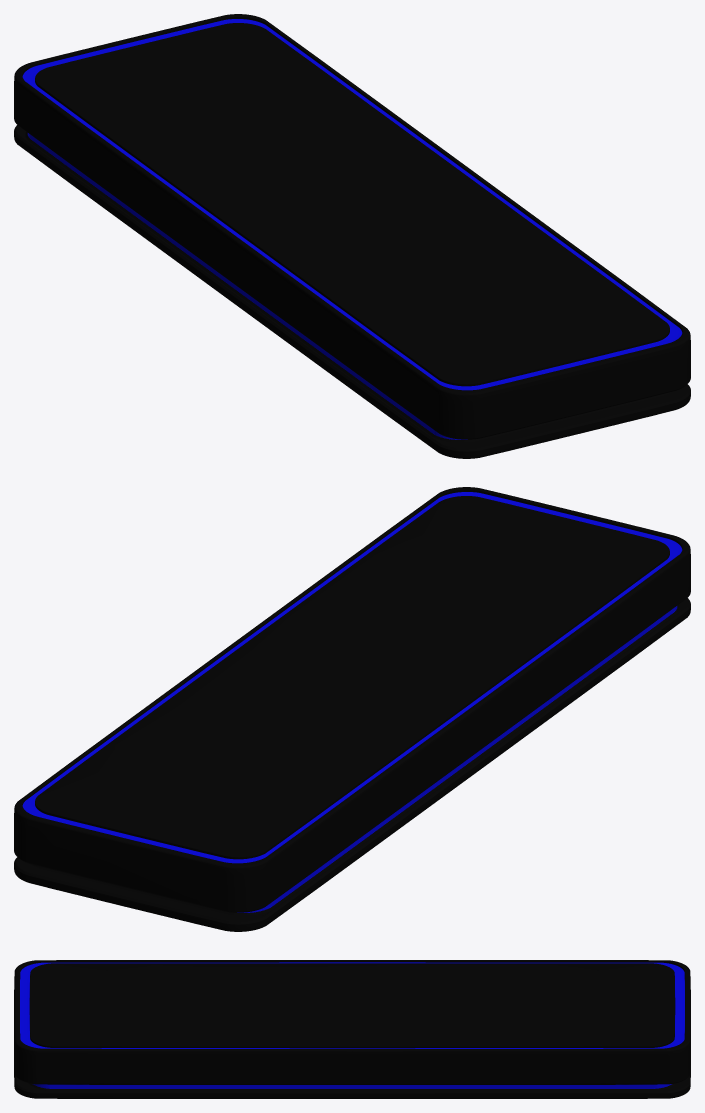
File: Plataforma 3.fbx
3 renders of one model, top to bottom at view 1: azimuth 30°, elevation 25°; view 2: azimuth 150°, elevation 25°; view 3: azimuth 270°, elevation 25°, orthographic. The views are drawn at different scales.
Visible parts, largest first — view 1: Plataforma_4; view 2: Plataforma_4; view 3: Plataforma_4.
Boxes of the visible parts, x1=… form: Plataforma_4: x1=14, y1=14, x2=690, y2=458; Plataforma_4: x1=14, y1=487, x2=690, y2=931; Plataforma_4: x1=14, y1=960, x2=690, y2=1098.
Bounding box in the file's own units: 4 × 1 × 12.5.
